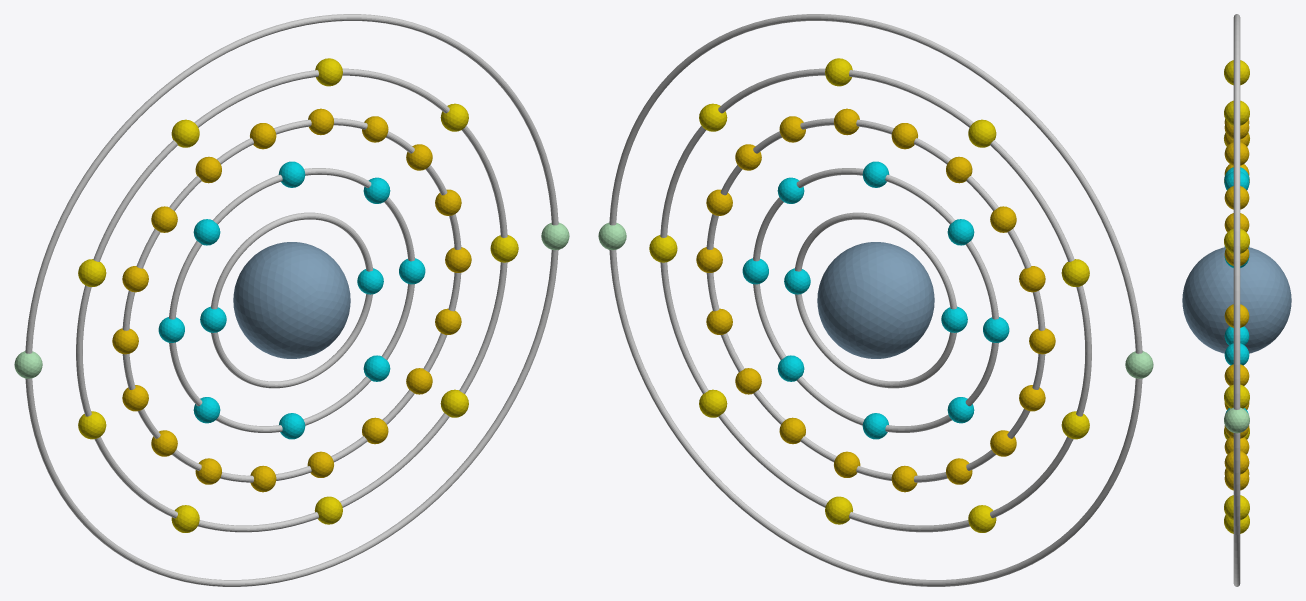
3 renders of one model, left to right at view 1: azimuth 30°, elevation 25°; view 2: azimuth 150°, elevation 25°; view 3: azimuth 270°, elevation 25°, orthographic. The views are drawn at different scales.
Parts seen in each view (by area): view 1: Camada_5, Nucleo_Y, Camada_4, Camada_3, Camada_2, Camada_1; view 2: Camada_5, Nucleo_Y, Camada_4, Camada_3, Camada_2, Camada_1; view 3: Nucleo_Y, Camada_5, e5_1, e4_2, e4_3, e4_4, e4_9, e4_1, e3_4, e3_2, e3_5, e3_17 (+10 smaller).
Part boxes in pixels (x1,y1,x2,y2): Camada_5: [25, 14, 558, 586]; Nucleo_Y: [233, 242, 350, 358]; Camada_4: [76, 68, 507, 532]; Camada_3: [122, 118, 461, 482]; Camada_2: [169, 168, 414, 432]; Camada_1: [211, 212, 373, 388]; Camada_5: [609, 14, 1142, 586]; Nucleo_Y: [817, 242, 934, 358]; Camada_4: [660, 68, 1091, 532]; Camada_3: [706, 118, 1045, 482]; Camada_2: [753, 168, 998, 432]; Camada_1: [794, 212, 956, 388]; Nucleo_Y: [1182, 247, 1291, 353]; Camada_5: [1233, 14, 1240, 586]; e5_1: [1224, 407, 1249, 433]; e4_2: [1224, 228, 1249, 253]; e4_3: [1224, 100, 1249, 125]; e4_4: [1224, 60, 1249, 85]; e4_9: [1224, 495, 1249, 520]; e4_1: [1224, 384, 1249, 408]; e3_4: [1224, 186, 1249, 209]; e3_2: [1224, 304, 1249, 327]; e3_5: [1224, 142, 1249, 165]; e3_17: [1224, 451, 1249, 474].
Bounding box in the file's own units: 2.39 × 2.31 × 0.44.
